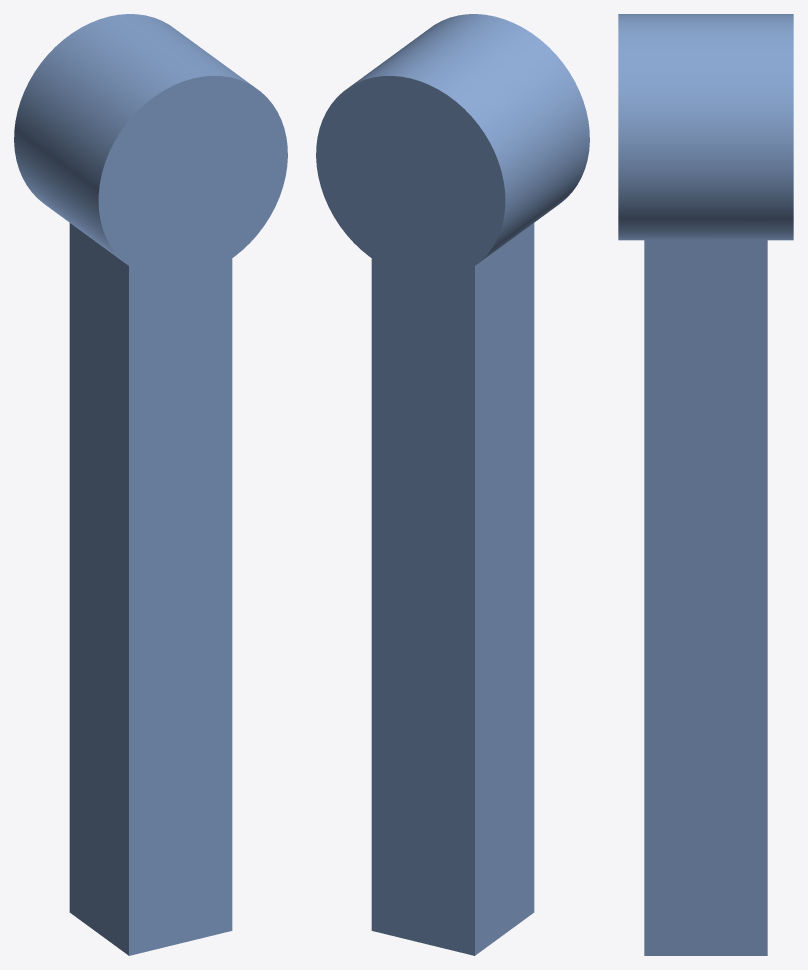
The model's file is step_23.glb.
3 views of the same model, side by side, from view 1: azimuth 30°, elevation 25°; view 2: azimuth 150°, elevation 25°; view 3: azimuth 270°, elevation 25° (orthographic). The views are drawn at different scales.
Parts seen in each view (by area): view 1: part__connecting rod; view 2: part__connecting rod; view 3: part__connecting rod.
Boxes of the visible parts, x1,y1,x2,y2 form: part__connecting rod: (14,14,287,955); part__connecting rod: (316,14,589,955); part__connecting rod: (618,14,793,955).
Size of the model in its own units: 21.99 by 97 by 17.
